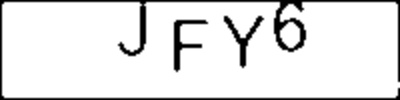6: (272, 1, 307, 55)
F: (169, 17, 210, 78)
J: (117, 1, 150, 58)
Y: (219, 13, 268, 71)
